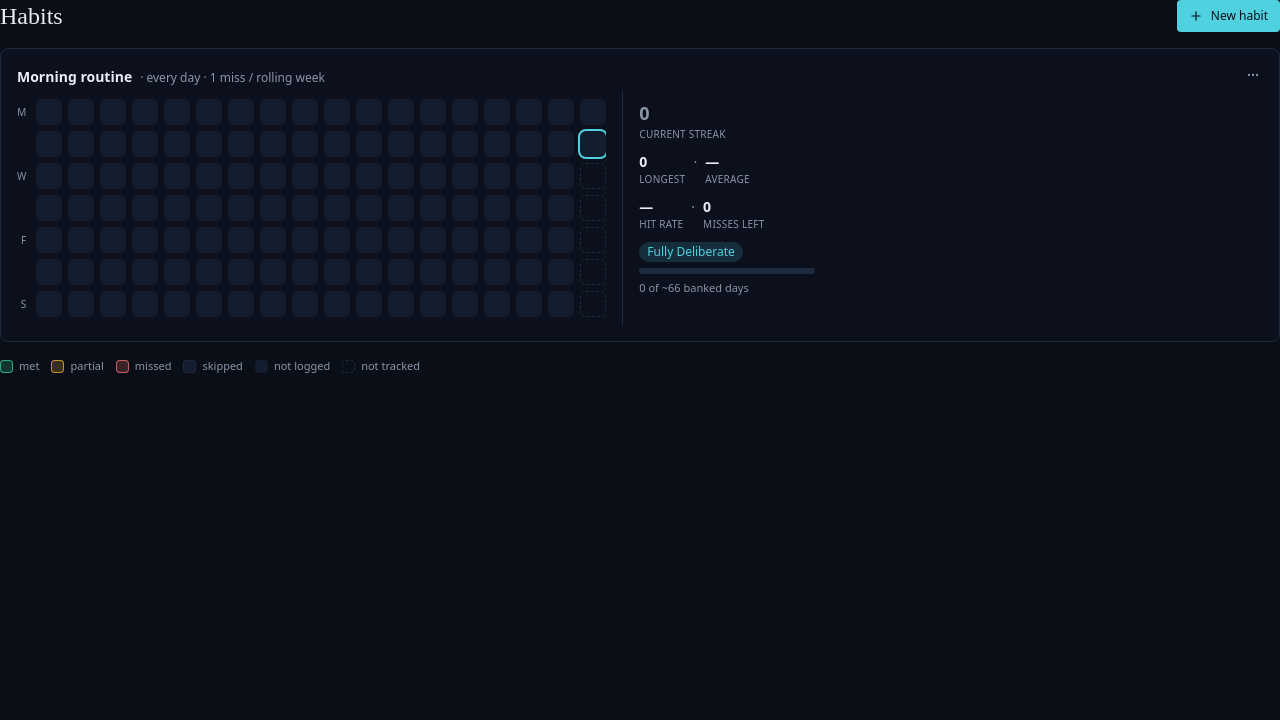
Test: HabitsView › opens the create dialog from the page header
Step 1. Click the button "New habit" → (1228, 16), box [1177, 0, 1279, 32]
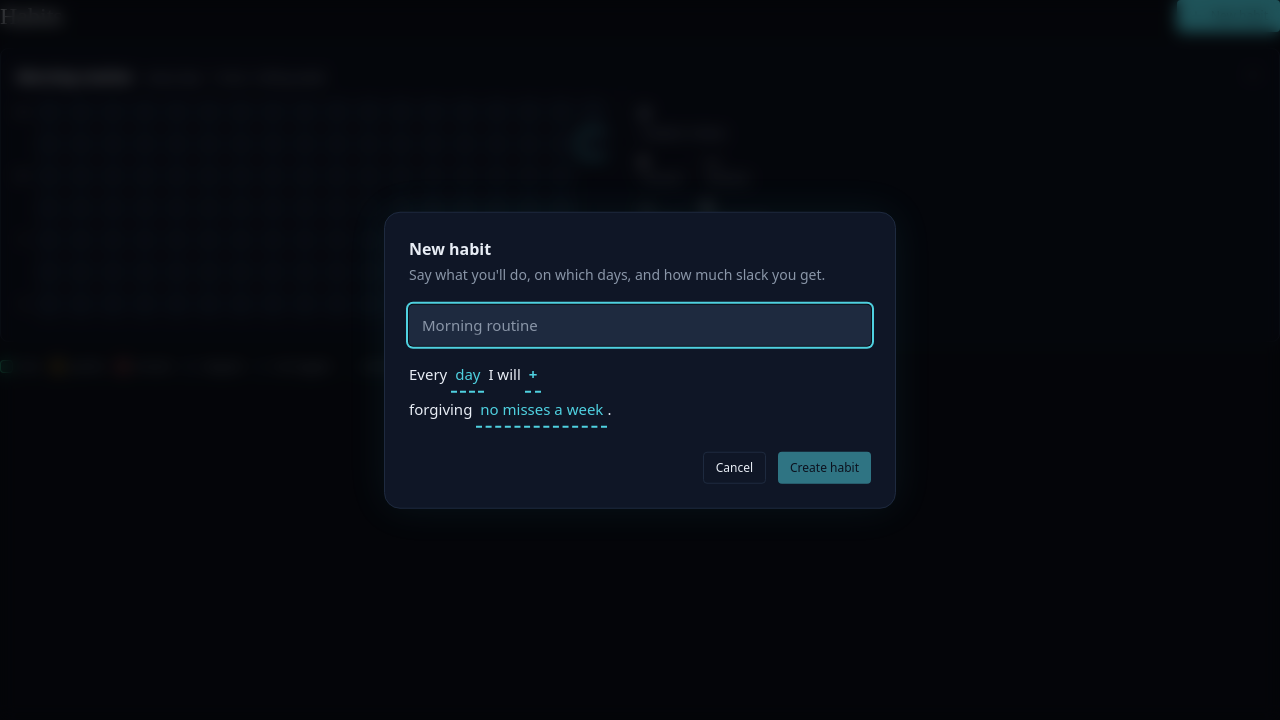
expect the field named "Habit name" is shown: met, box [409, 305, 871, 345]
